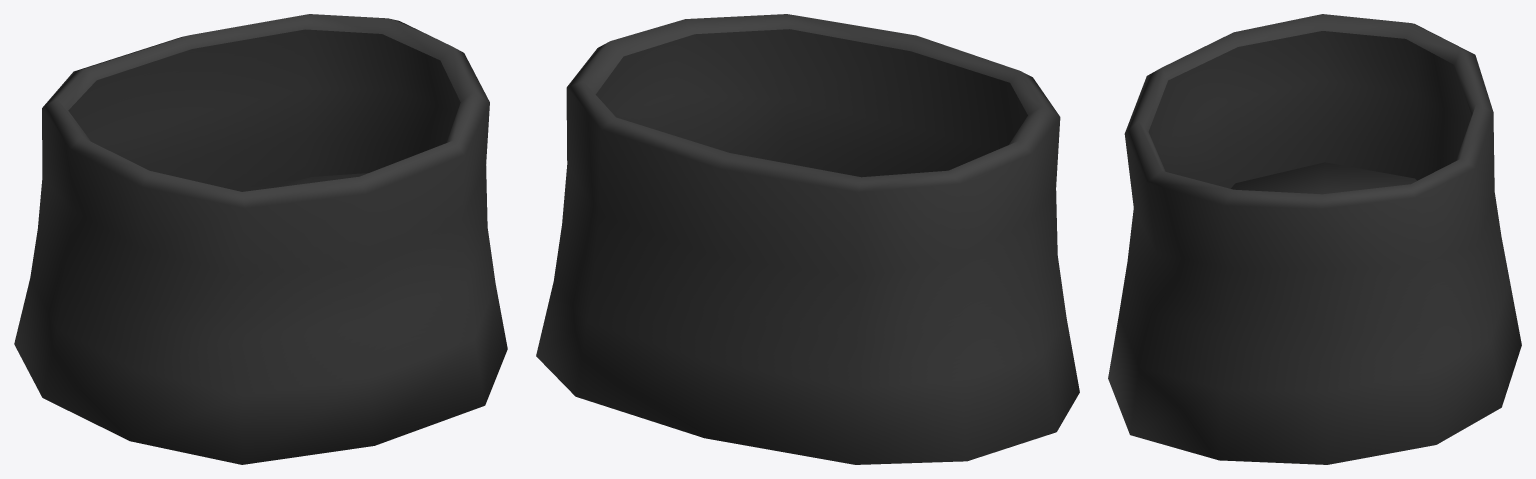
Rendered from Bottom_45.fbx.
3 renders of one model, left to right at view 1: azimuth 30°, elevation 25°; view 2: azimuth 150°, elevation 25°; view 3: azimuth 270°, elevation 25°, orthographic. The views are drawn at different scales.
Parts seen in each view (by area): view 1: Bottom_45; view 2: Bottom_45; view 3: Bottom_45.
Part boxes in pixels (left/top/right/bottom): Bottom_45: left=14, top=14, right=507, bottom=464; Bottom_45: left=536, top=14, right=1079, bottom=464; Bottom_45: left=1108, top=14, right=1521, bottom=464.
Size of the model in its own units: 43.31 by 25.69 by 35.06.
